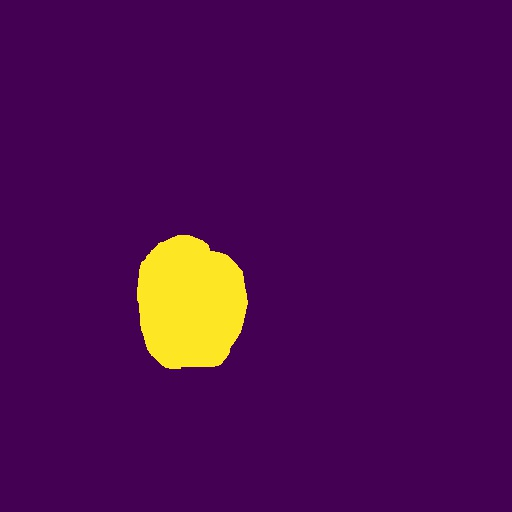Menigiomia_tumour: (137, 235, 248, 369)
